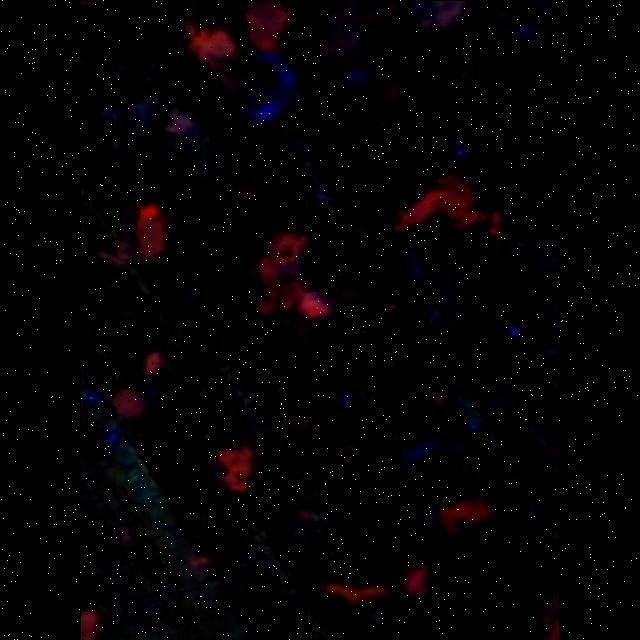Fragment: (390, 172, 504, 234)
